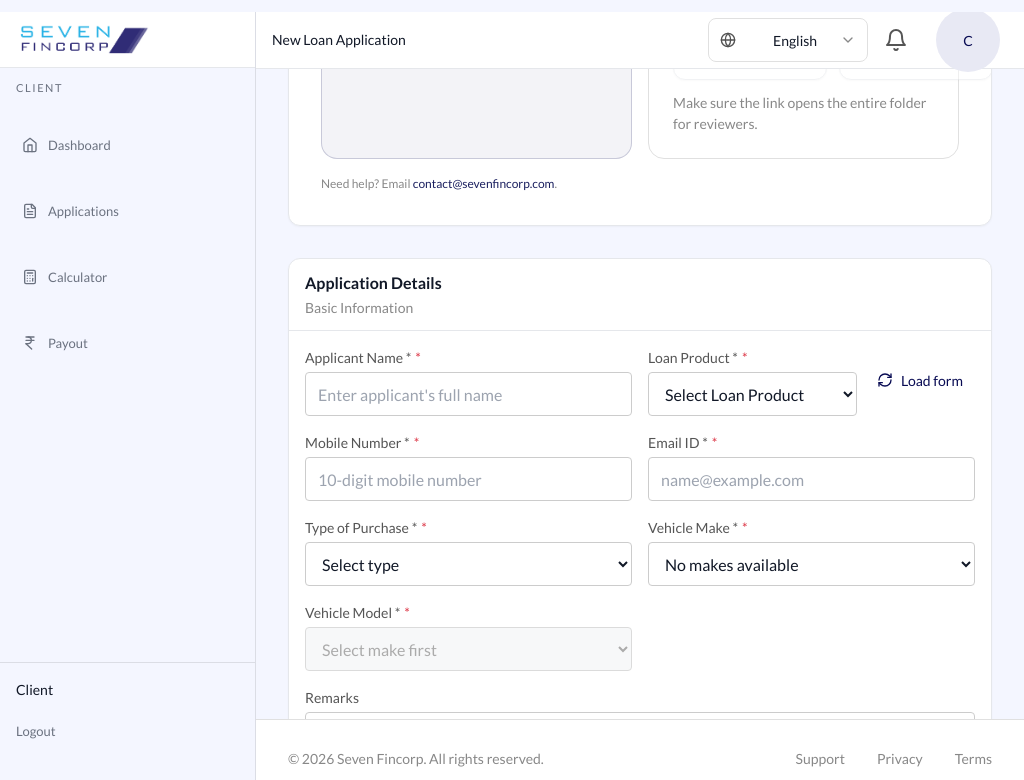
Test: NewApplication Page - P0 Tests › M2-FE-002: Mandatory Field Validation on Submit › should prevent submission when mandatory fields are empty
(page scrolled)
Select "Business Loan" in the dropdown with test id "loan-product-select". click: (752, 394)
box: [648, 372, 857, 416]
(page scrolled)
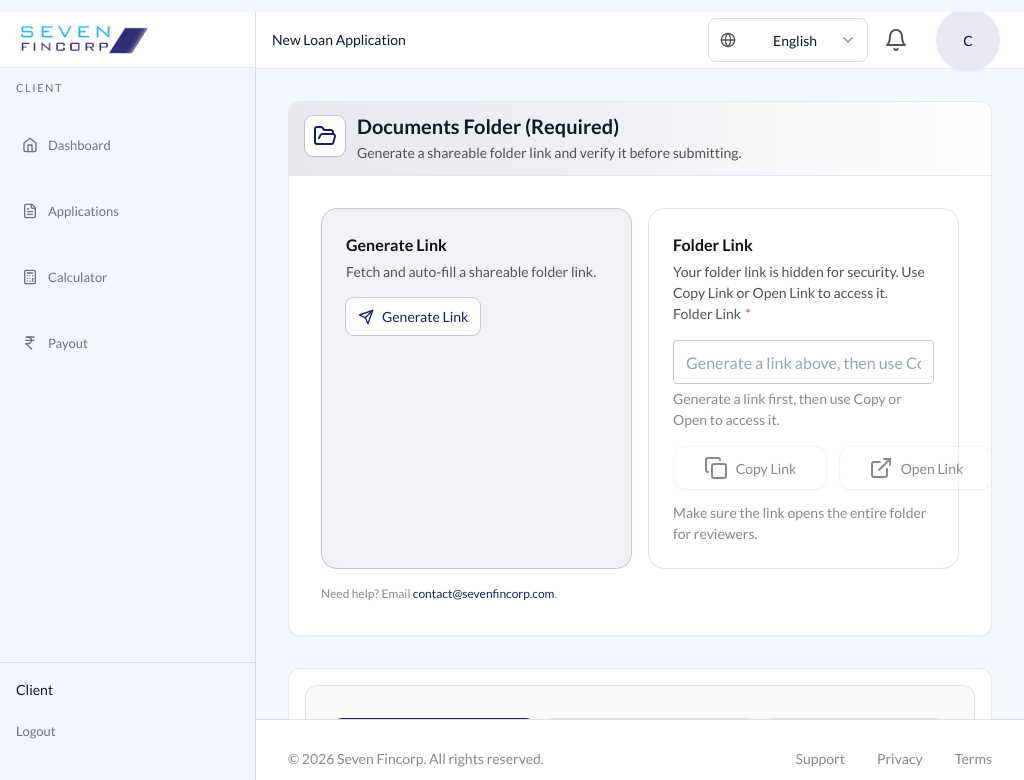
Type "John Doe" into the field. click: (804, 362)
box: [673, 340, 934, 384]
(page scrolled)
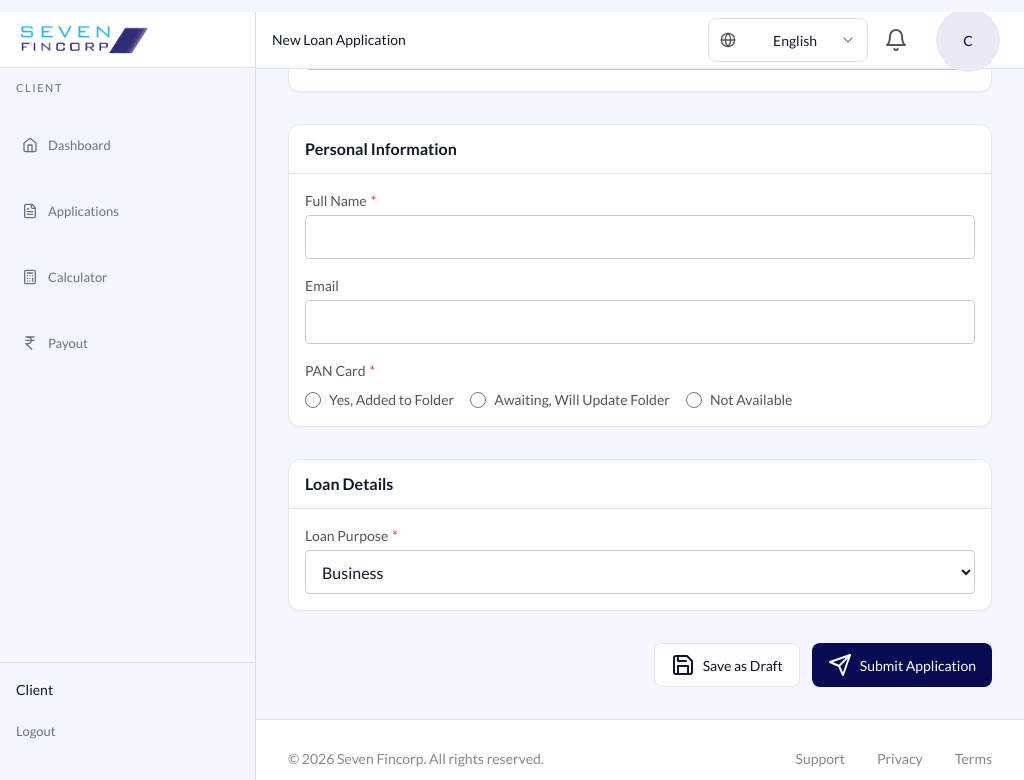
Click the button "Submit Application". click: (902, 665)
box: [812, 643, 992, 687]
(page scrolled)
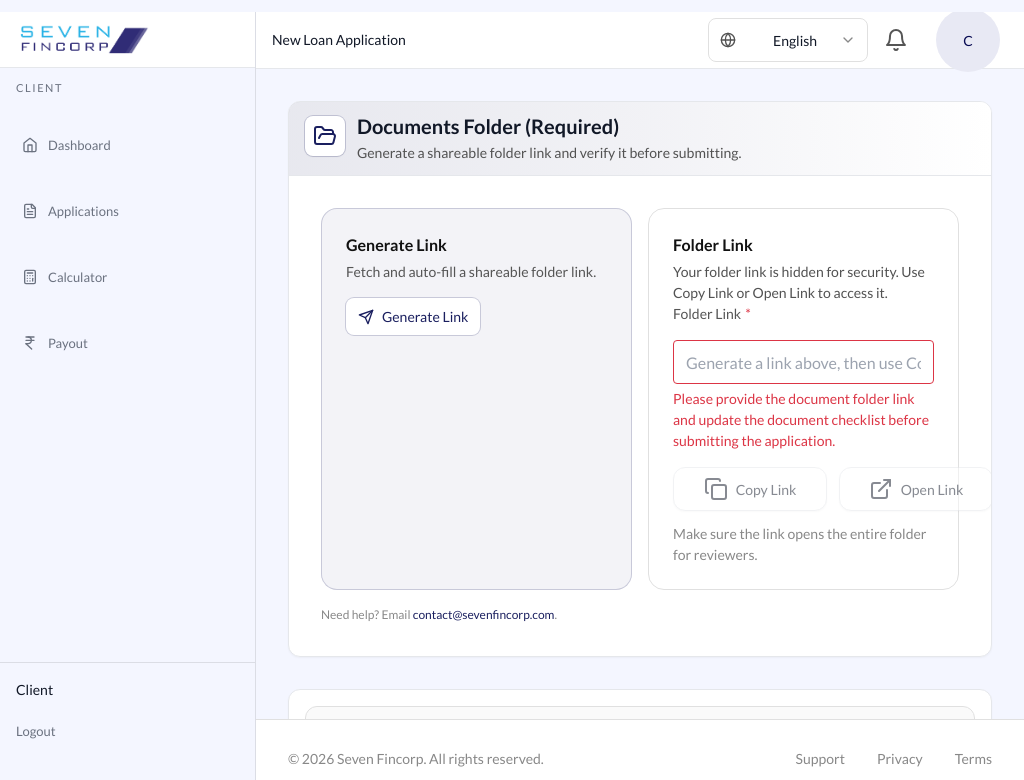
Now the heading "Documents Folder (Required)" is shown, box [357, 114, 619, 138]
